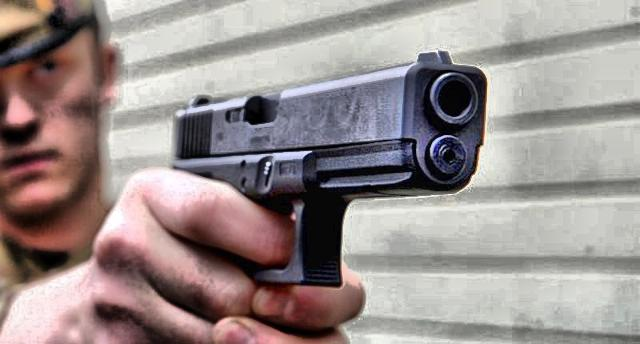pistol: (155, 47, 493, 295)
